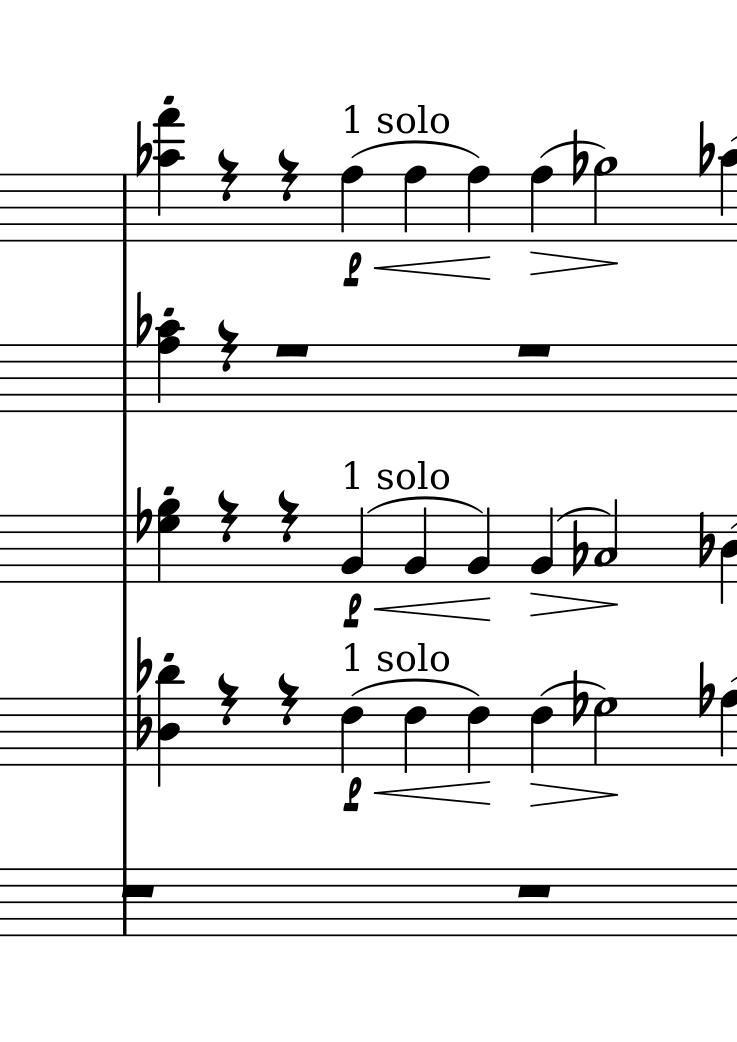1: (343, 456, 360, 490), (345, 639, 361, 673), (344, 100, 359, 135)
2_3: (593, 499, 620, 583)
2_7: (592, 698, 618, 767)
2_9: (591, 155, 618, 244)
4_10_15: (152, 107, 185, 243)
4_2: (339, 506, 366, 584), (466, 505, 492, 586), (403, 505, 428, 585), (529, 507, 554, 586)
4_4_11: (154, 663, 182, 789)
4_6: (339, 697, 364, 774), (403, 697, 427, 774), (467, 696, 490, 775), (530, 696, 553, 775)
4_7_9: (156, 497, 182, 586)
4_8: (339, 164, 364, 244), (529, 164, 554, 244), (466, 165, 490, 245), (403, 165, 427, 244)
4_8_10: (153, 320, 185, 414)
Crescendo_hairpin: (374, 779, 491, 808), (374, 255, 492, 283), (375, 595, 492, 623)
Diminuendo_hairpin: (530, 590, 619, 617), (529, 249, 618, 275), (530, 782, 619, 807)
Flat: (569, 518, 589, 579), (134, 694, 153, 755), (696, 510, 715, 568), (134, 288, 151, 352), (571, 128, 588, 191), (134, 484, 151, 545), (135, 119, 153, 176), (570, 670, 587, 730), (698, 118, 714, 179), (697, 660, 713, 720)
Rests1: (513, 880, 556, 901), (271, 340, 313, 360), (513, 341, 555, 361), (121, 880, 159, 901)
Rests4: (214, 317, 240, 375), (275, 148, 301, 204), (215, 146, 240, 204), (215, 487, 240, 545), (276, 488, 301, 546), (276, 670, 300, 729), (216, 672, 240, 728)
Single_barline: (115, 344, 134, 411), (115, 868, 134, 934), (116, 516, 134, 582), (116, 699, 133, 766), (116, 175, 133, 241)
Slur: (350, 140, 481, 159), (363, 496, 483, 513), (535, 139, 608, 157), (557, 505, 609, 521)
Solo: (350, 678, 478, 698), (376, 103, 451, 134), (377, 458, 449, 490), (376, 642, 450, 672), (542, 680, 605, 695)
p: (341, 592, 363, 631), (341, 776, 363, 815), (341, 251, 362, 290)
